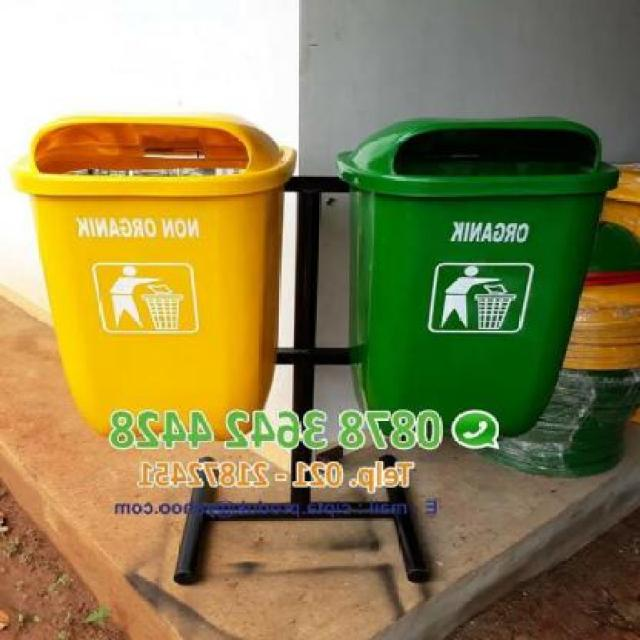garbage container: (1, 106, 307, 463), (326, 107, 626, 456)
